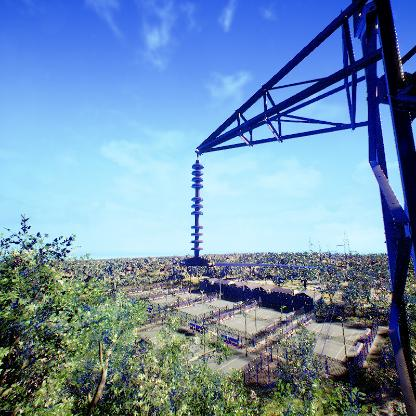insulator: (186, 160, 207, 257)
